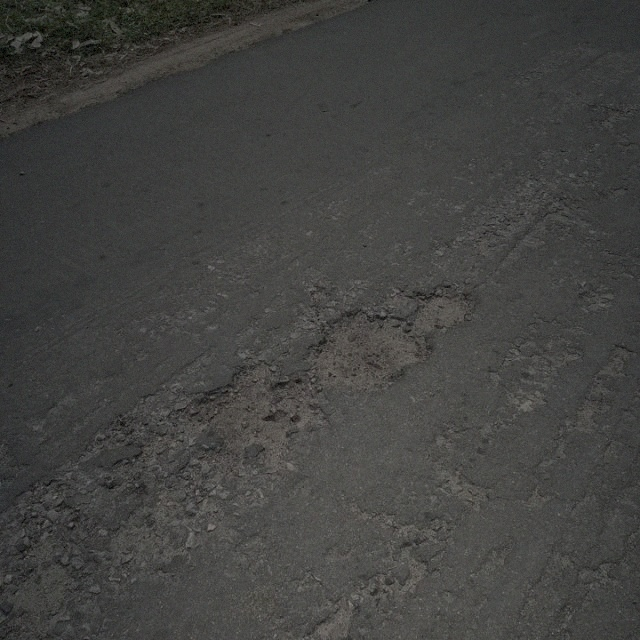pothole: (181, 355, 323, 465), (300, 307, 430, 393), (407, 284, 478, 332)
